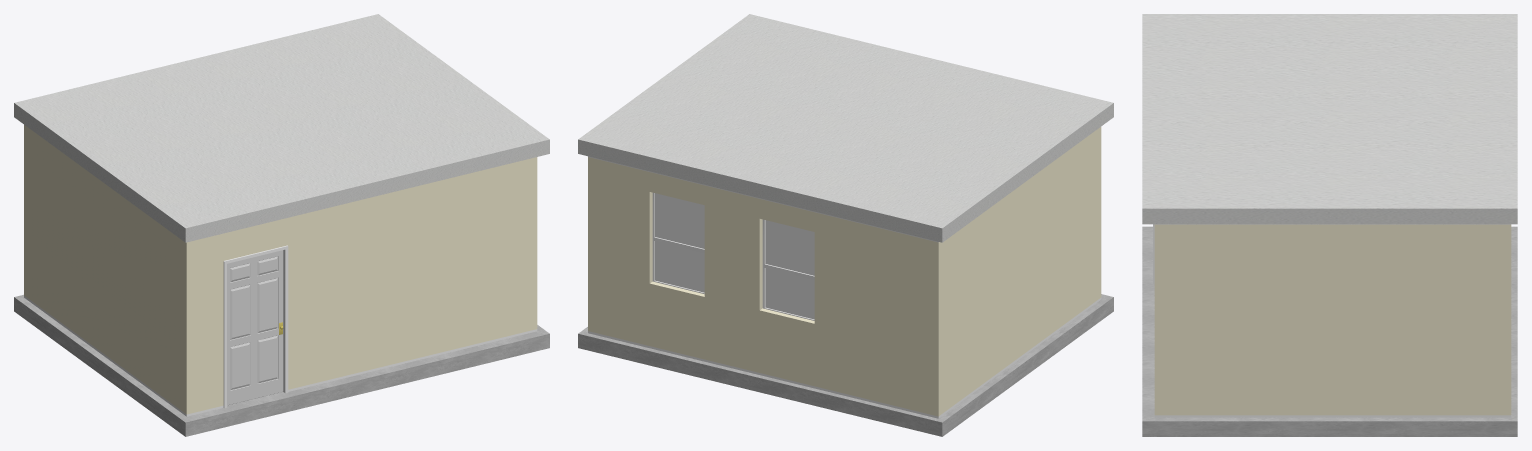
The model's file is FloorPlan206_physics.fbx.
3 views of the same model, side by side, from view 1: azimuth 30°, elevation 25°; view 2: azimuth 150°, elevation 25°; view 3: azimuth 270°, elevation 25° (orthographic). The views are drawn at different scales.
Visible parts, largest first — view 1: FP206:StandardWallSize, FP206:Ceiling, FP206:Floor, FP206:StandardDoor1, FP206:StandardDoorFrame1; view 2: FP206:StandardWallSize, FP206:Ceiling, FP206:Floor, FP206:polySurface1, FP206:polySurface2, FP206:StandardWindow3 (2*, FP206:StandardWindow3; view 3: FP206:Ceiling, FP206:StandardWallSize, FP206:Floor.
Part boxes in pixels (box(x1,y1,x2,y2)): FP206:StandardWallSize: box(24, 125, 537, 416); FP206:Ceiling: box(14, 14, 549, 242); FP206:Floor: box(14, 294, 549, 436); FP206:StandardDoor1: box(227, 250, 283, 405); FP206:StandardDoorFrame1: box(223, 245, 288, 408); FP206:StandardWallSize: box(588, 127, 1101, 418); FP206:Ceiling: box(578, 14, 1113, 242); FP206:Floor: box(578, 294, 1113, 436); FP206:polySurface1: box(765, 220, 814, 319); FP206:polySurface2: box(655, 193, 704, 292); FP206:StandardWindow3 (2*: box(762, 219, 814, 320); FP206:StandardWindow3: box(652, 192, 704, 293); FP206:Ceiling: box(1142, 14, 1517, 224); FP206:StandardWallSize: box(1154, 224, 1511, 417); FP206:Floor: box(1142, 226, 1517, 436).
Bounding box in the file's own units: 530 × 290 × 432.
